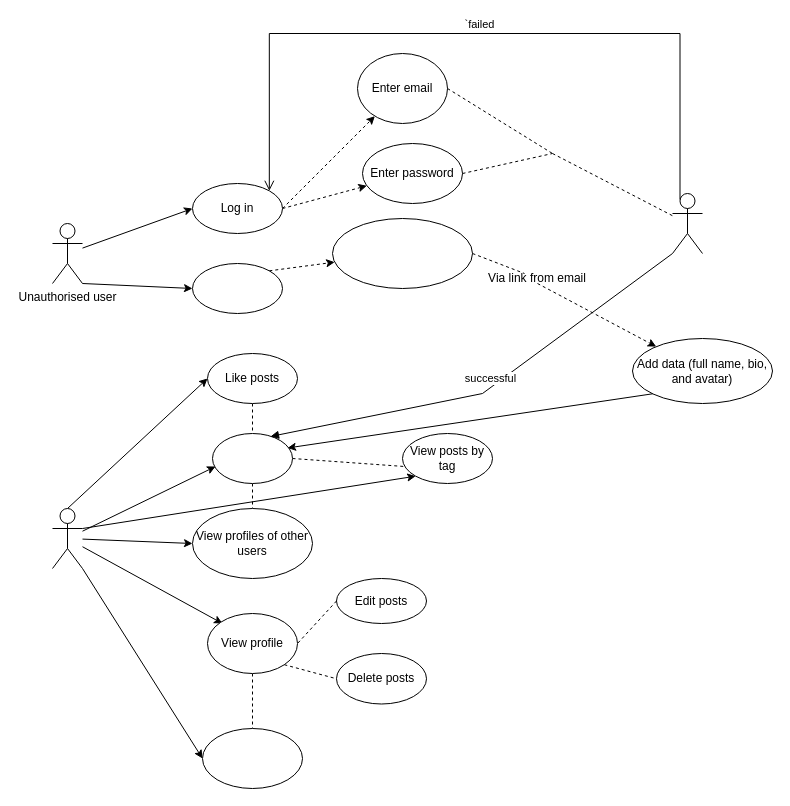
The diagram is 790 pixels wide and 806 high, and some of its shapes have lost their labels. The centre of each missing label's shape, as x and y in pixels:
"Authenticated user" belongs at pixel 67 538.
"Authentication" belongs at pixel 687 223.
"Create post" belongs at pixel 252 758.
"Enter email and password" belongs at pixel 402 253.
"Registration" belongs at pixel 237 288.
"View feed" belongs at pixel 252 458.
